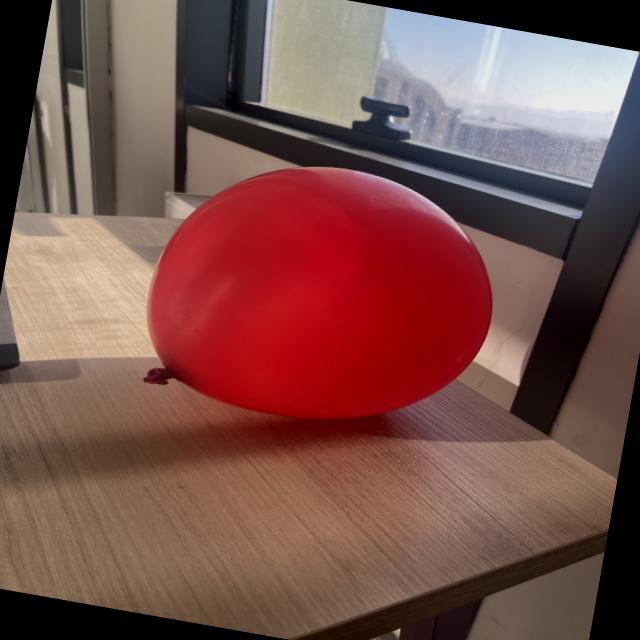balloon: (146, 167, 491, 419)
